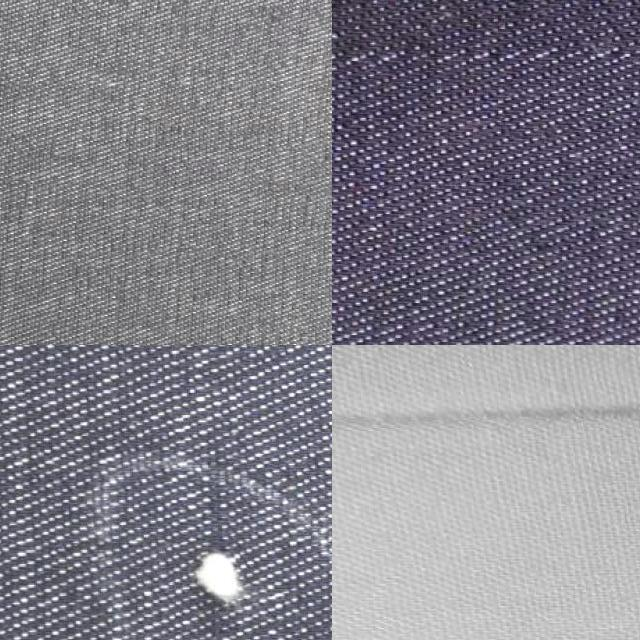stains: (332, 0, 640, 132), (167, 531, 291, 640)
